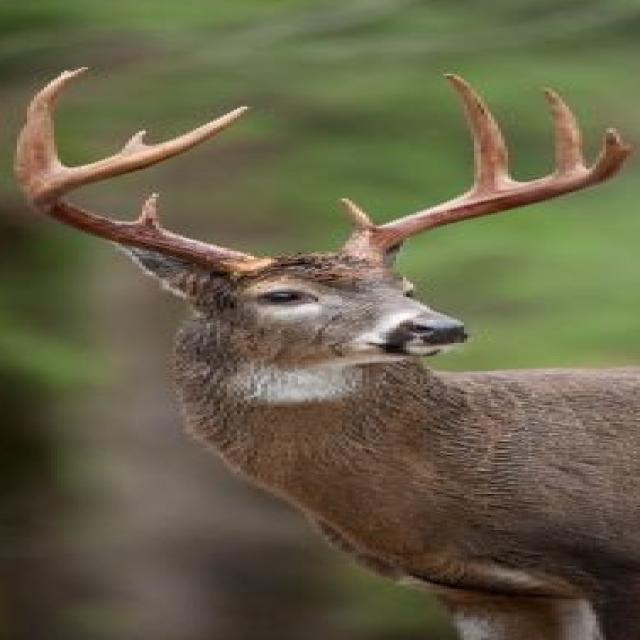L-F: (338, 126, 634, 266)
L-G1: (337, 197, 379, 236)
L-G2: (441, 73, 518, 192)
L-G3: (542, 90, 588, 174)
R-F: (24, 104, 274, 276)
R-G1: (133, 189, 162, 229)
R-G2: (11, 64, 96, 200)
R-G3: (122, 129, 147, 151)
